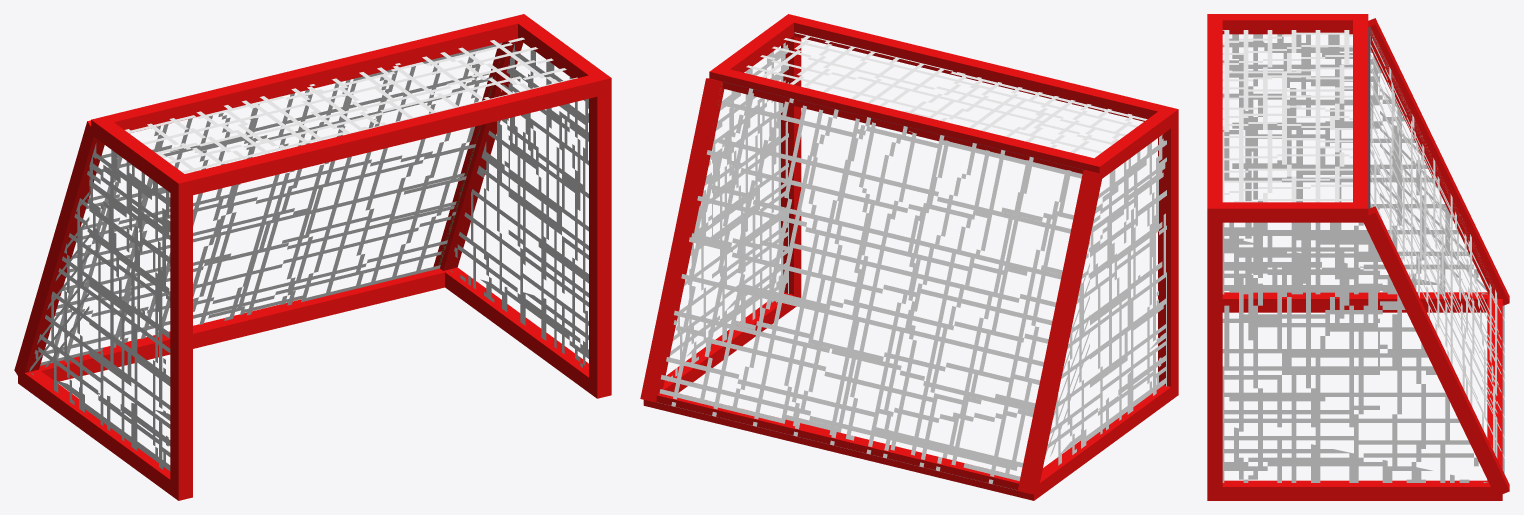
File: hockey-goal.gltf
3 renders of one model, left to right at view 1: azimuth 30°, elevation 25°; view 2: azimuth 150°, elevation 25°; view 3: azimuth 270°, elevation 25°, orthographic. The views are drawn at different scales.
Parts seen in each view (by area): view 1: obj1; view 2: obj1; view 3: obj1.
Boxes of the visible parts, box(x1,y1,x2,y2) form: obj1: box(14, 14, 611, 500); obj1: box(640, 14, 1178, 500); obj1: box(1207, 14, 1509, 500).
Size of the model in its own units: 6 by 4.2 by 3.94.
Materials: 4 (4 with a texture image).
